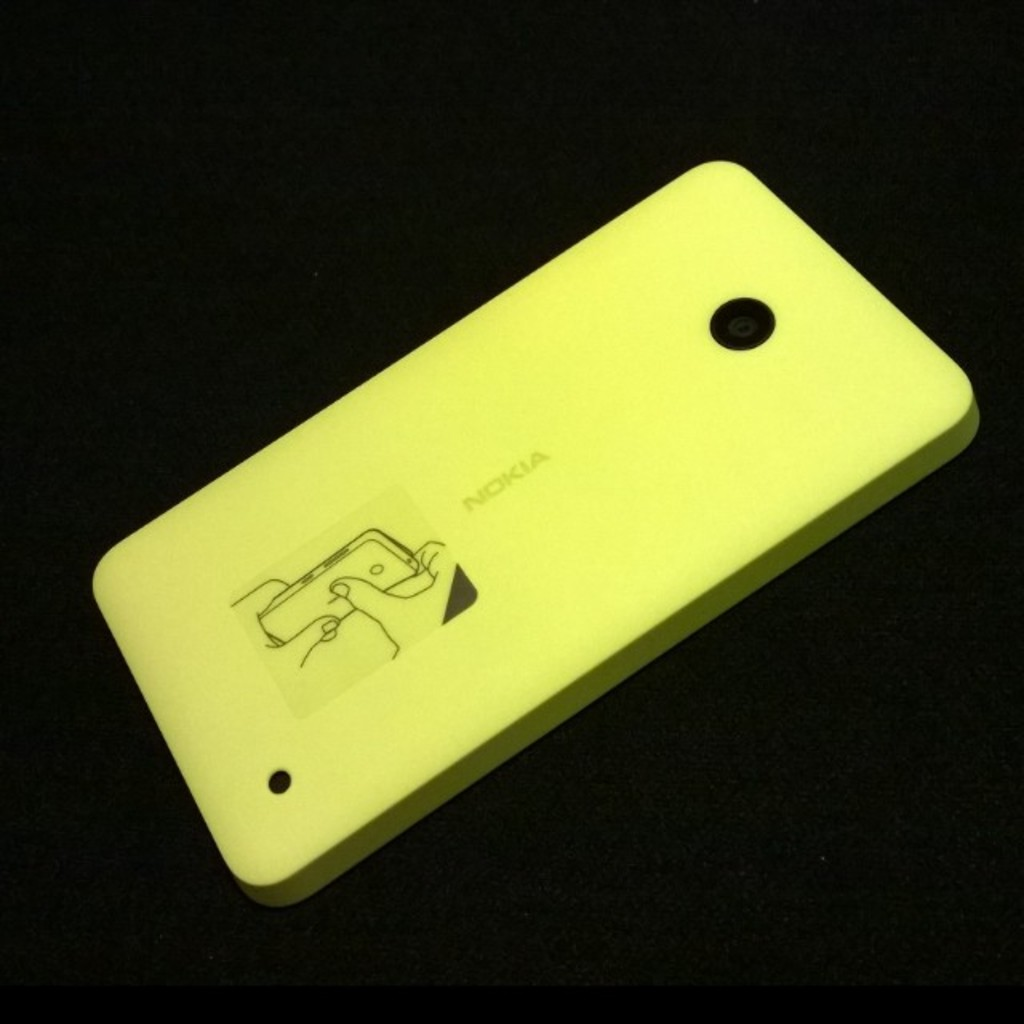Mobile-phone: (86, 159, 976, 904)
